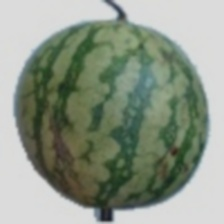watermelon: (32, 62, 189, 197)
